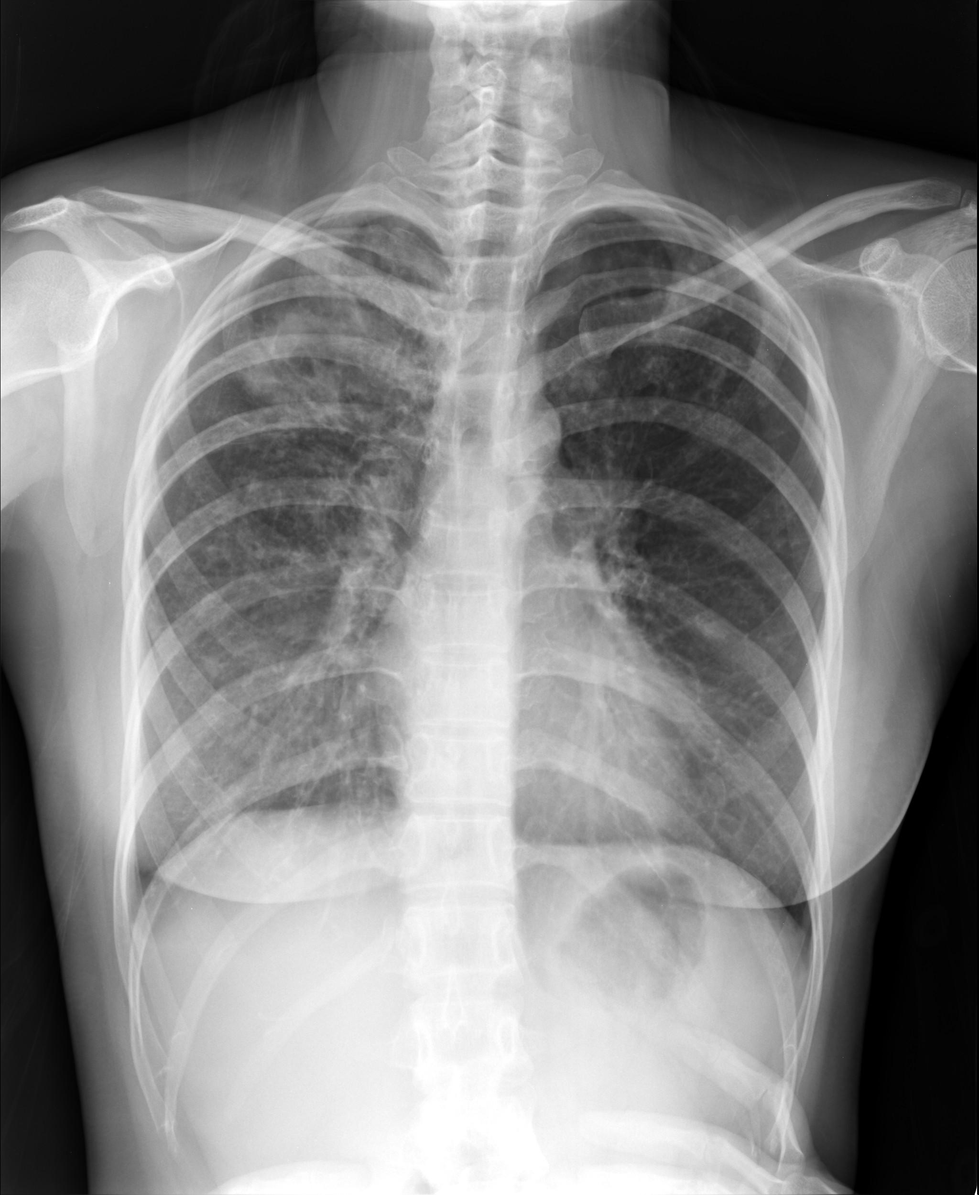Pulmonary fibrosis: (144, 215, 432, 686)
